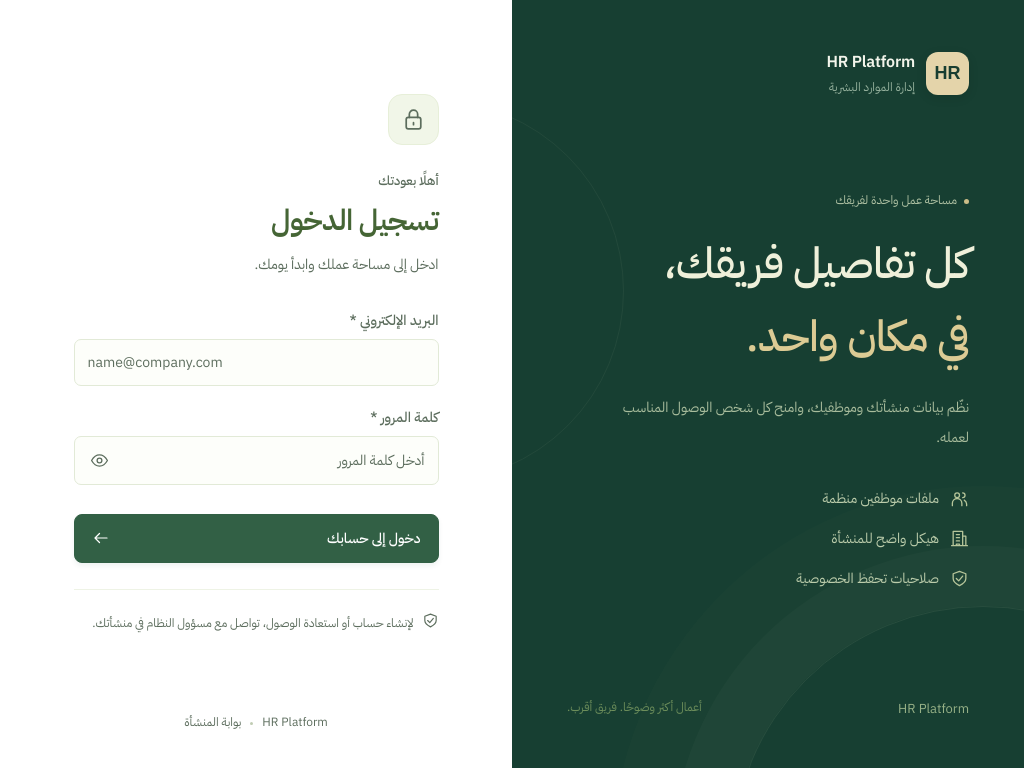
Test: authenticated UI › shows login errors without pretending authentication succeeded
The image size is (1024, 768).
Expected: the button "دخول إلى حسابك" is shown, 74,514 -> 438,563
In the field labelled "البريد الإلكتروني": (256,362) 74,339 -> 438,386, type "bad@test.local"
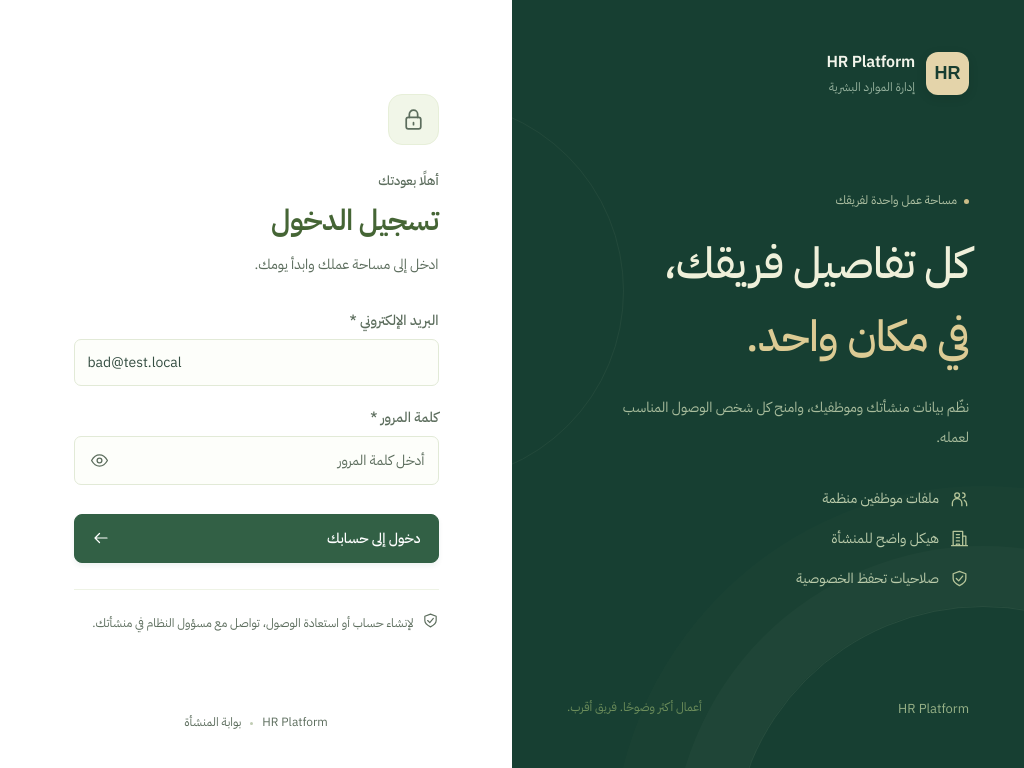
In the password field labelled "كلمة المرور": (278,460) 118,437 -> 438,484, type "bad"
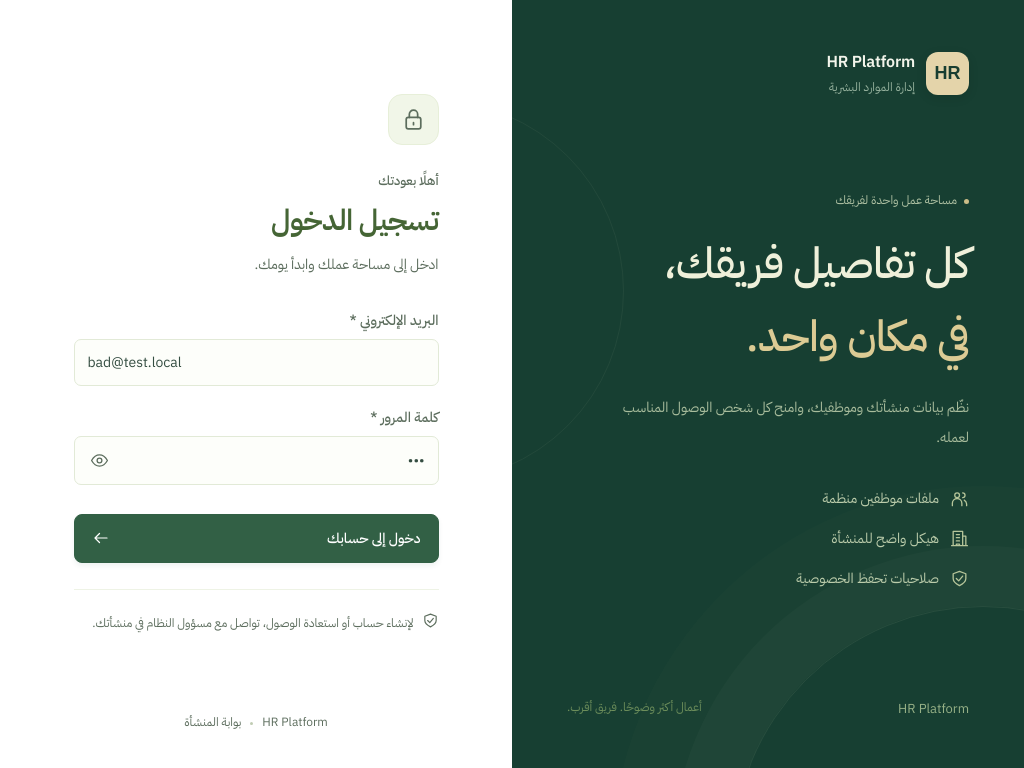
Click the button "دخول إلى حسابك": (374,538) 74,514 -> 438,563
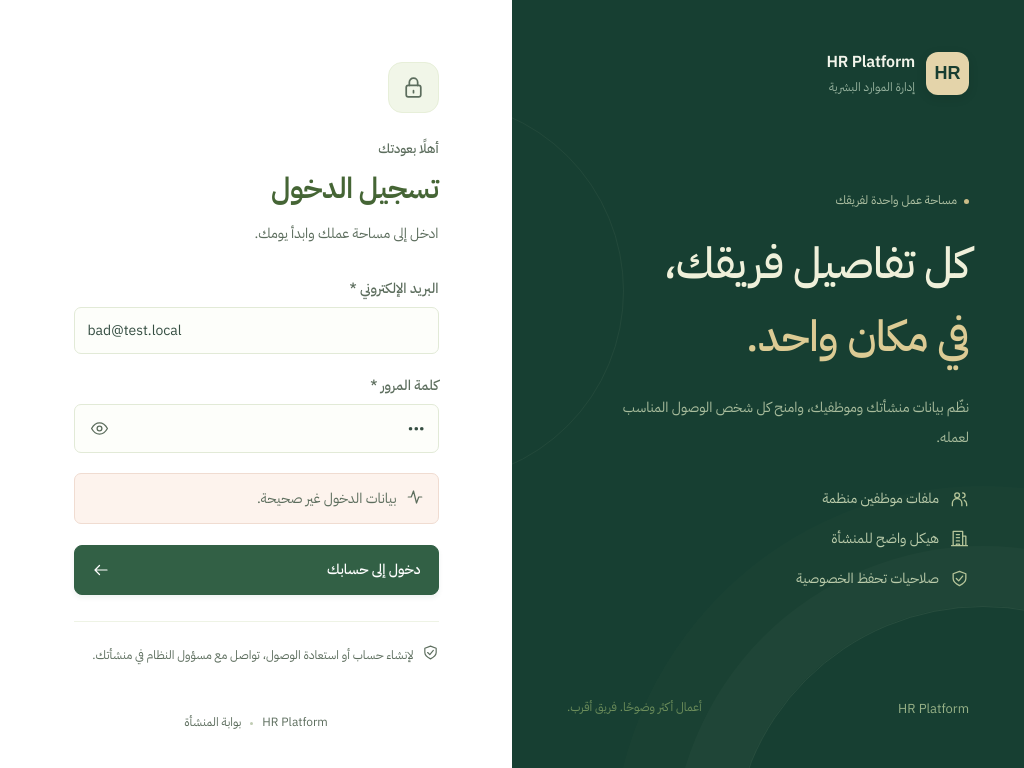
Result: the message reads "بيانات الدخول غير صحيحة." at 257,488 -> 396,509
